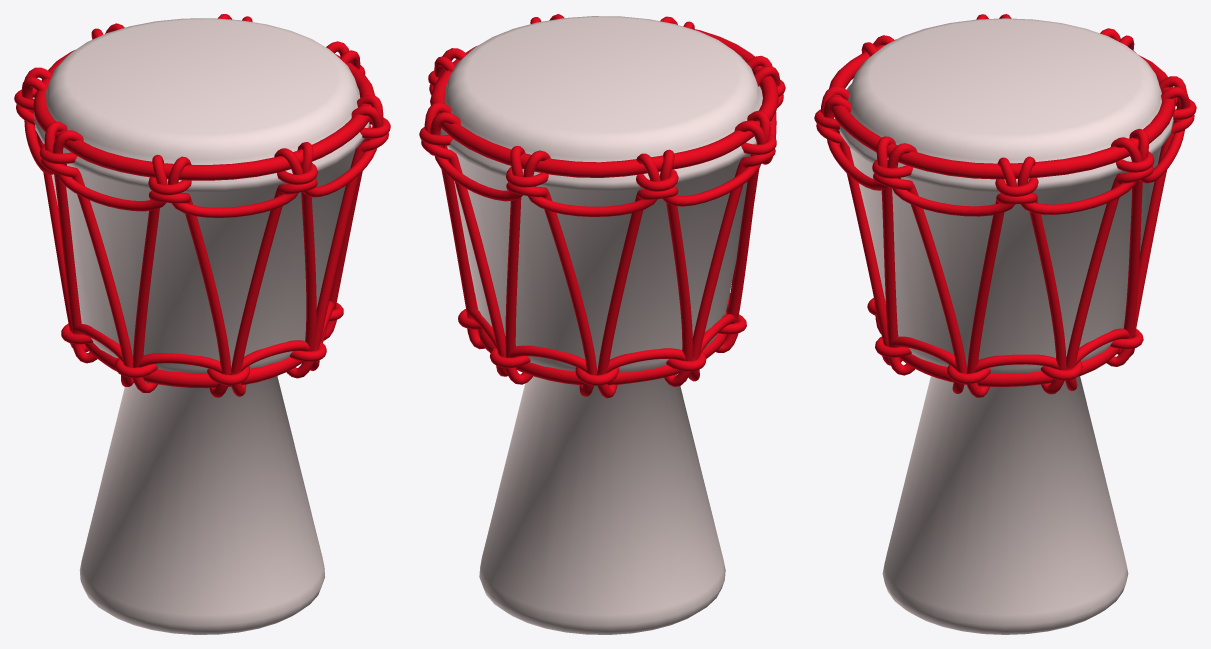
Rendered from drum_ready.fbx.
3 renders of one model, left to right at view 1: azimuth 30°, elevation 25°; view 2: azimuth 150°, elevation 25°; view 3: azimuth 270°, elevation 25°, orthographic.
Visible parts, largest first — view 1: drum-ready, drum-ready_nitki; view 2: drum-ready, drum-ready_nitki; view 3: drum-ready, drum-ready_nitki.
Boxes of the visible parts, x1,y1,x2,y2 form: drum-ready: (34, 18, 370, 634); drum-ready_nitki: (14, 14, 390, 397); drum-ready: (440, 16, 770, 634); drum-ready_nitki: (419, 14, 785, 398); drum-ready: (839, 18, 1173, 634); drum-ready_nitki: (814, 14, 1196, 397).
Size of the model in its own units: 290 by 427 by 290.
